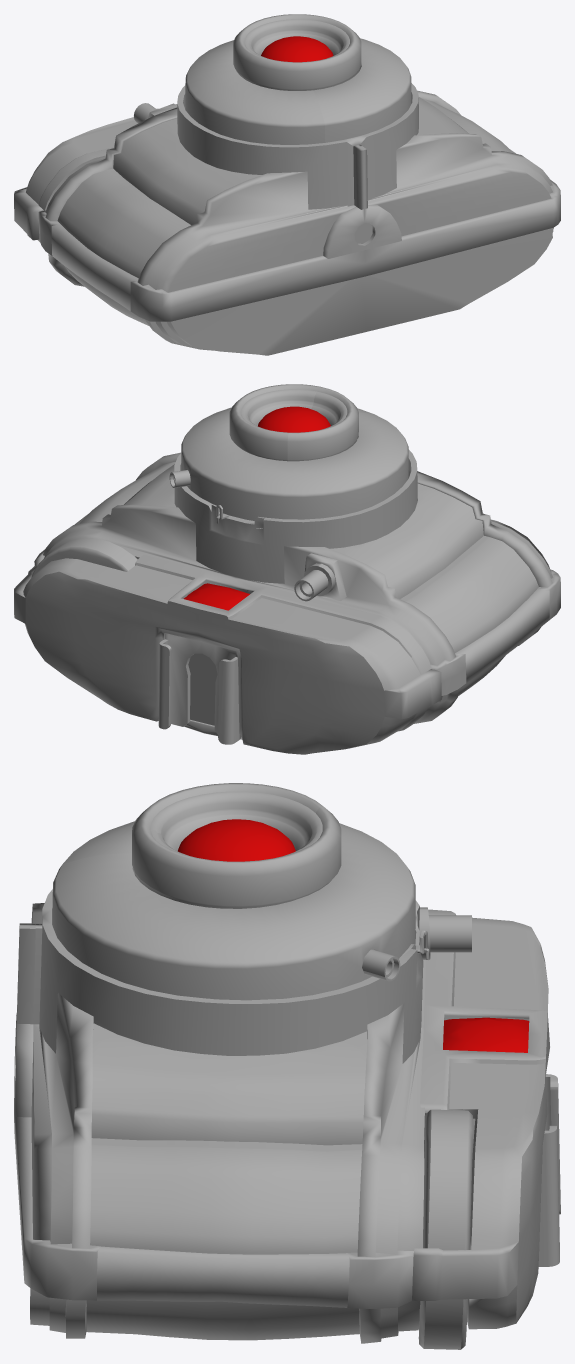
File: GAP_CAM_lowpoly_4.fbx
3 views of the same model, one above another, from view 1: azimuth 30°, elevation 25°; view 2: azimuth 150°, elevation 25°; view 3: azimuth 270°, elevation 25° (orthographic). The views are drawn at different scales.
Parts seen in each view (by area): view 1: Low_Midden_low, Low_Lens_4_low, Low_Midden_2_low, Low_Lens_3_low, Low_Top_low, Low_Lens_2_low, Low_Lens_1_low; view 2: Low_Top_low, Low_Midden_low, Low_Lens_4_low, Low_Midden_2_low, Low_Detail_Top_low, Low_Lens_3_low, Low_Lens_2_low, Low_Wheel_low, Low_Cube_low2, Low_Lens_1_low, pCube1, Low_Detail_3_low; view 3: Low_Midden_low, Low_Midden_2_low, Low_Lens_4_low, Low_Top_low, Low_Lens_3_low, Low_Wheel_low, Low_Lens_2_low, Low_Lens_1_low, Low_Detail_Top_low, pCube1, Low_Detail_3_low, Low_Detail1_low.
Boxes of the visible parts, x1,y1,x2,y2 form: Low_Midden_low: (38, 67, 560, 355); Low_Lens_4_low: (185, 38, 411, 144); Low_Midden_2_low: (57, 98, 513, 325); Low_Lens_3_low: (233, 14, 361, 90); Low_Top_low: (14, 104, 177, 242); Low_Lens_2_low: (244, 19, 349, 58); Low_Lens_1_low: (261, 36, 333, 62); Low_Top_low: (14, 554, 441, 754); Low_Midden_low: (34, 438, 560, 723); Low_Lens_4_low: (181, 407, 408, 520); Low_Midden_2_low: (79, 462, 538, 696); Low_Detail_Top_low: (158, 633, 240, 744); Low_Lens_3_low: (229, 384, 358, 461); Low_Lens_2_low: (241, 389, 347, 428); Low_Wheel_low: (31, 538, 137, 577); Low_Cube_low2: (188, 653, 217, 725); Low_Lens_1_low: (258, 406, 330, 432); pCube1: (183, 583, 249, 610); Low_Detail_3_low: (294, 570, 328, 601); Low_Midden_low: (14, 869, 430, 1343); Low_Midden_2_low: (86, 1138, 362, 1340); Low_Lens_4_low: (52, 821, 415, 1000); Low_Top_low: (412, 909, 549, 1329); Low_Lens_3_low: (132, 783, 341, 908); Low_Wheel_low: (418, 1109, 472, 1349); Low_Lens_2_low: (150, 791, 322, 855); Low_Lens_1_low: (178, 819, 295, 861); Low_Detail_Top_low: (538, 1074, 560, 1266); pCube1: (443, 1017, 529, 1052); Low_Detail_3_low: (429, 915, 471, 952); Low_Detail1_low: (362, 949, 400, 981).
Bounding box in the file's own units: 89.93 × 53.56 × 61.1.
